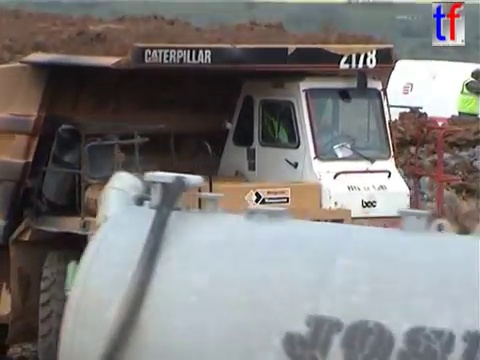truck: (1, 36, 465, 360), (52, 167, 480, 360)
worker: (456, 65, 480, 150)
